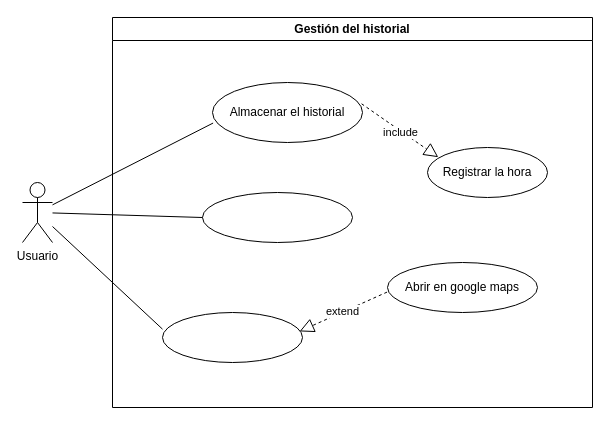
This 610x425 diagram has some shape labels left out. Each missing label, with the centre of its shape:
"Consultar el historial" goes at (x=232, y=337).
"Exportar el historial" goes at (x=277, y=217).
